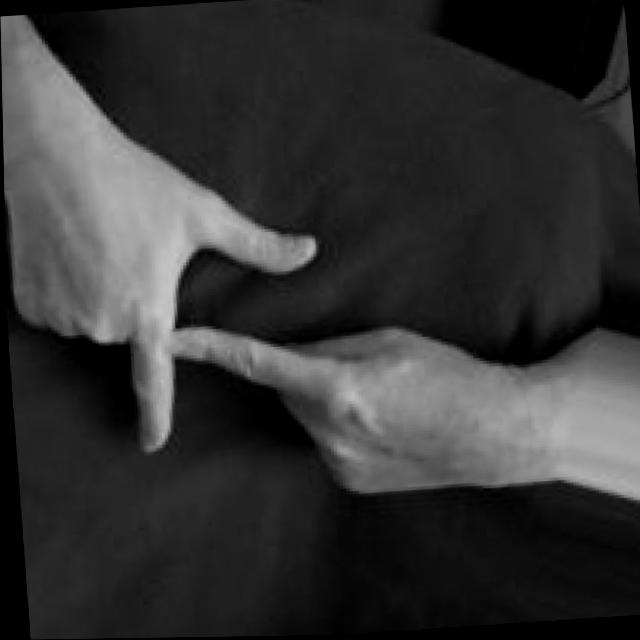F: (4, 154, 536, 518)
